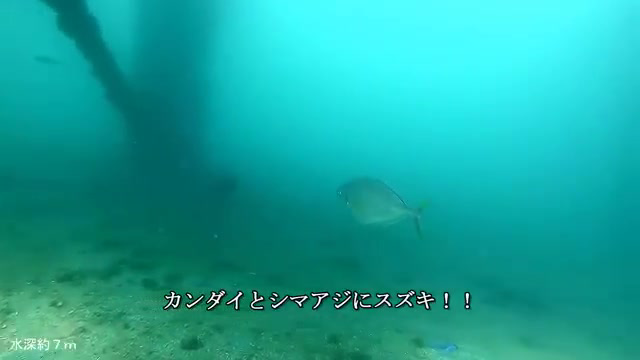suzuki: (324, 169, 433, 252)
